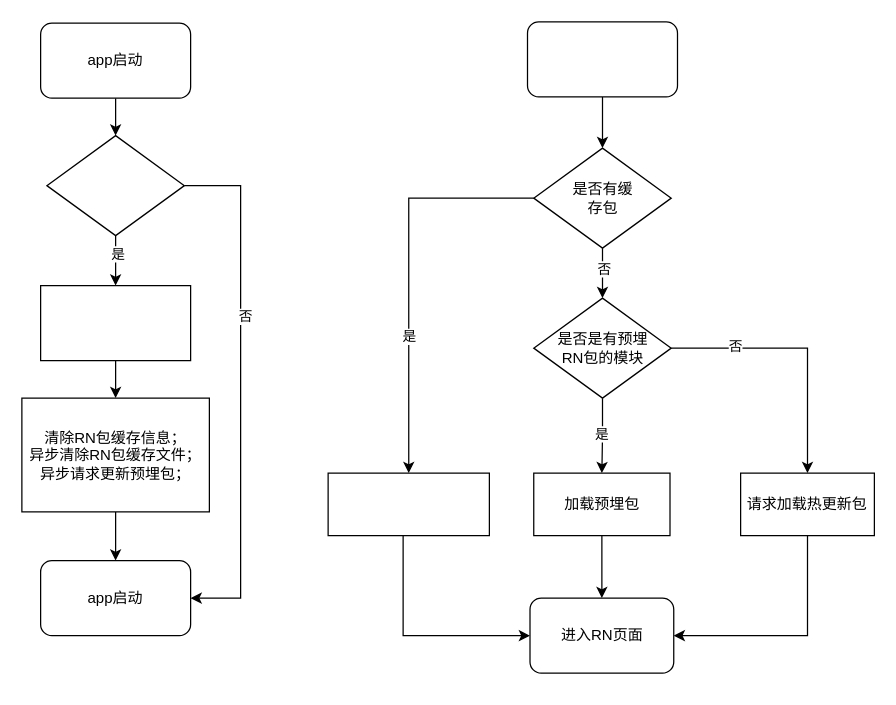
The diagram is 896 pixels wide and 705 high, and some of its shapes have lost their labels. Here are the shapes that lost their labels. From the top down, the centre of each, then its label:
At point (602, 59): "打开RN模块".
At point (115, 185): "版本是否改变".
At point (115, 322): "持久化缓存新版本标识".
At point (408, 504): "加载缓存包".
